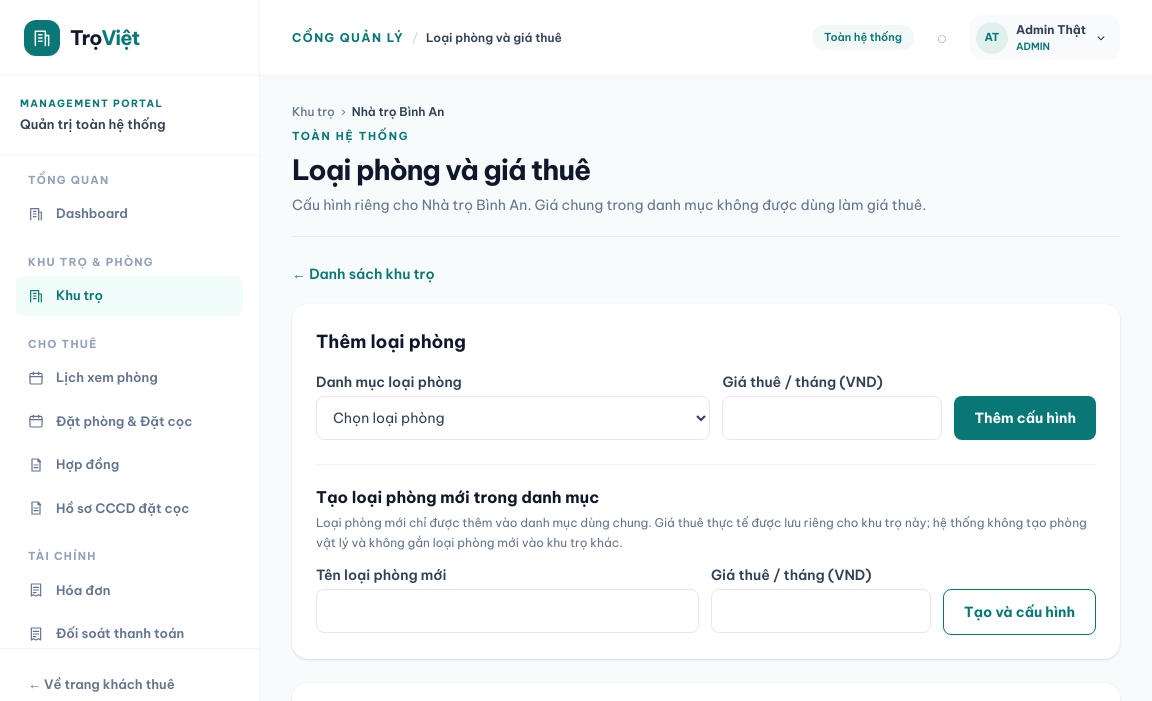
Scenario: management property room types › uses the entered property rent instead of the catalog price
Step 1. Select "Deluxe" in the dropdown labelled "Danh mục loại phòng" → (513, 418), box [316,396,710,440]
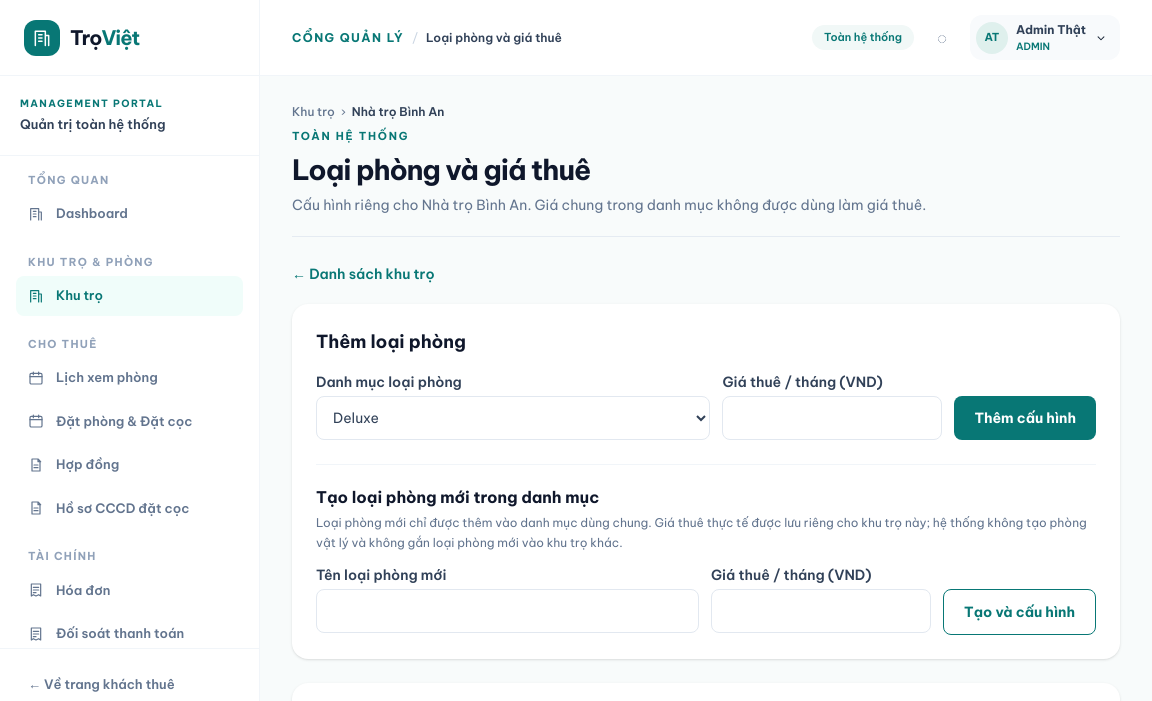
Step 2. Type "3200000" into the number field named "Giá thuê mới" → (832, 418), box [722,396,942,440]
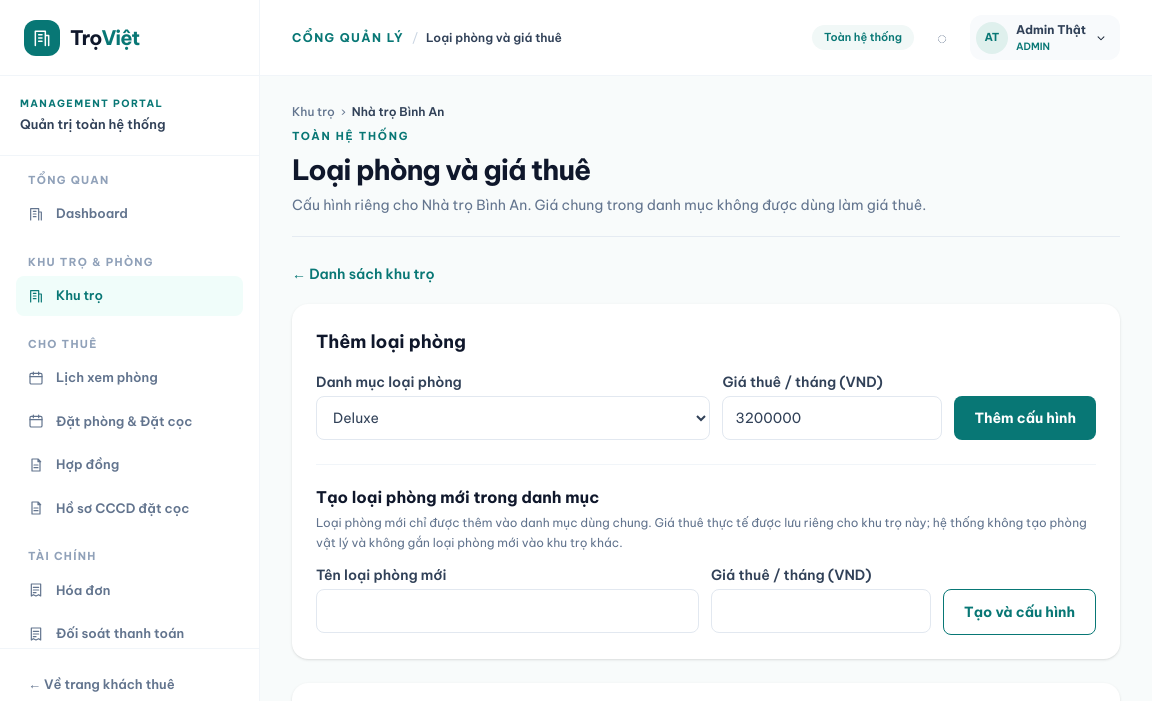
Step 3. Click the button "Thêm cấu hình" → click(1025, 418), box [954,396,1096,440]
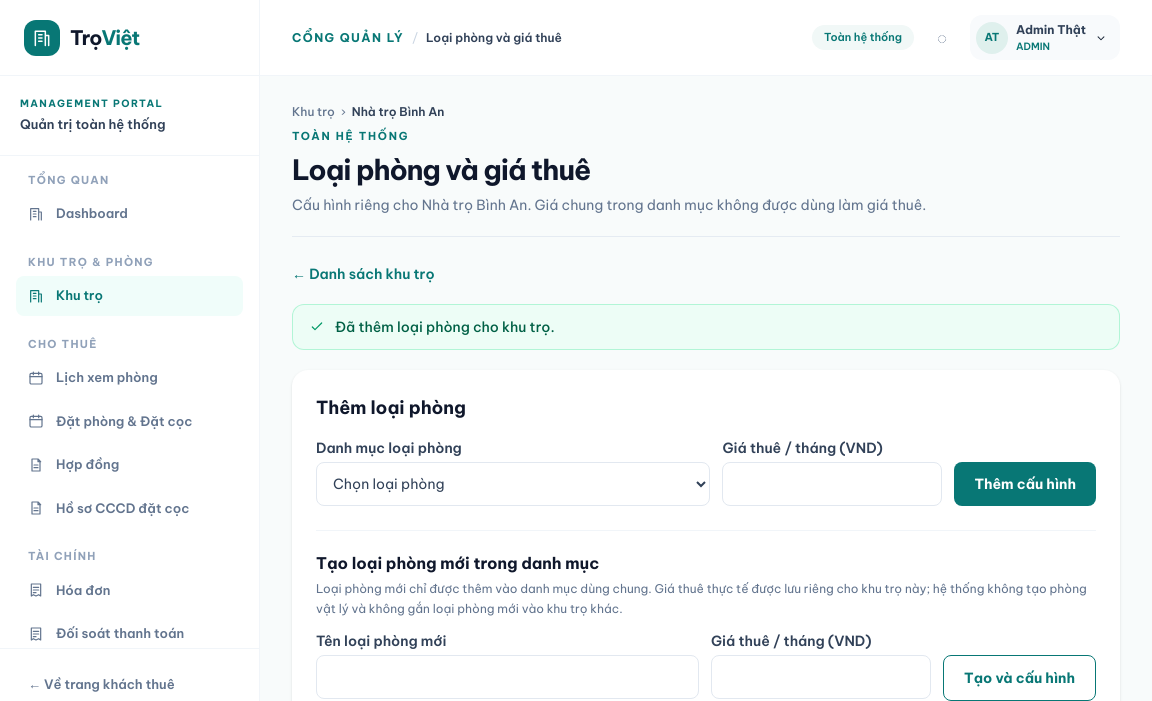
Check: the text "Đã thêm loại phòng cho khu trọ." is shown, box [335,316,555,336]
